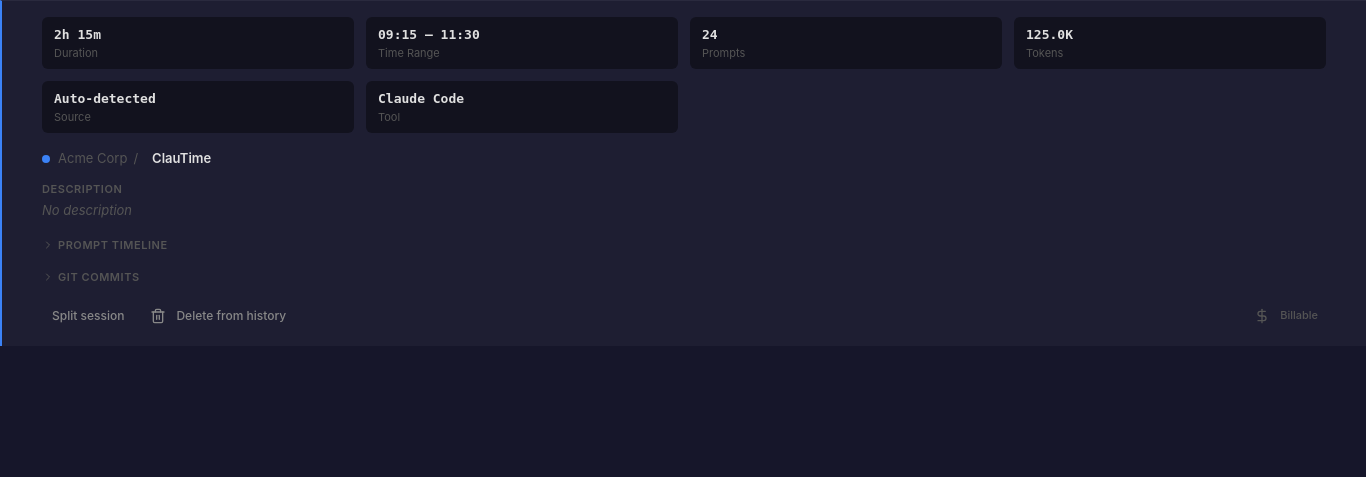
SessionDetailPanel › cancels a split with Escape without closing the session
The width and height of the screenshot is (1366, 477).
Click the button "Split session" at [88, 316], box x1=42 y1=302 x2=134 y2=330
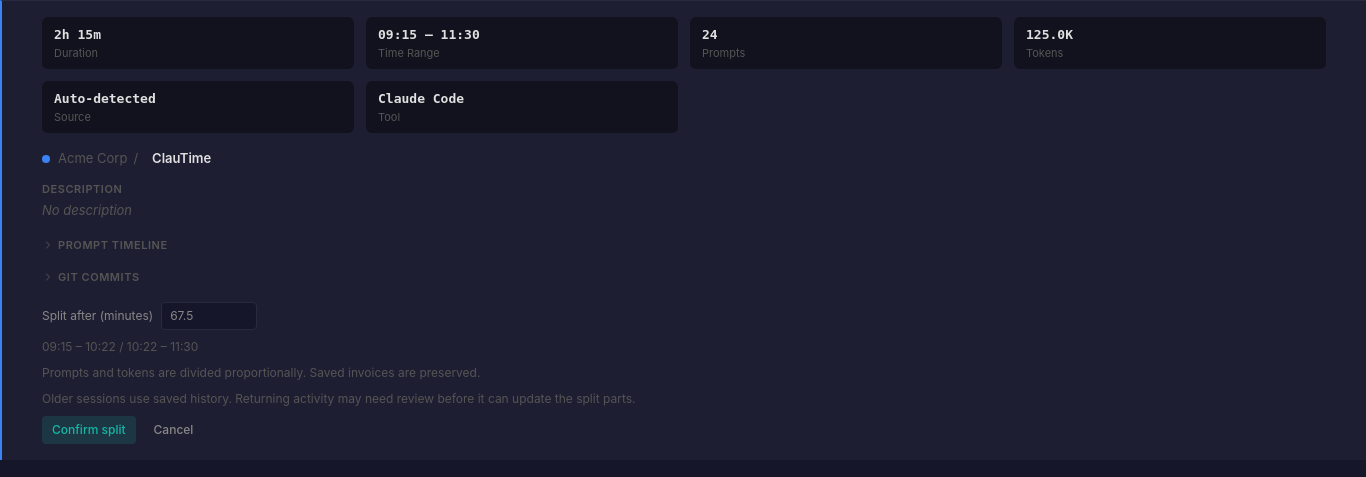
Press Escape in the element named "Details for session 09:15 – 11:30"
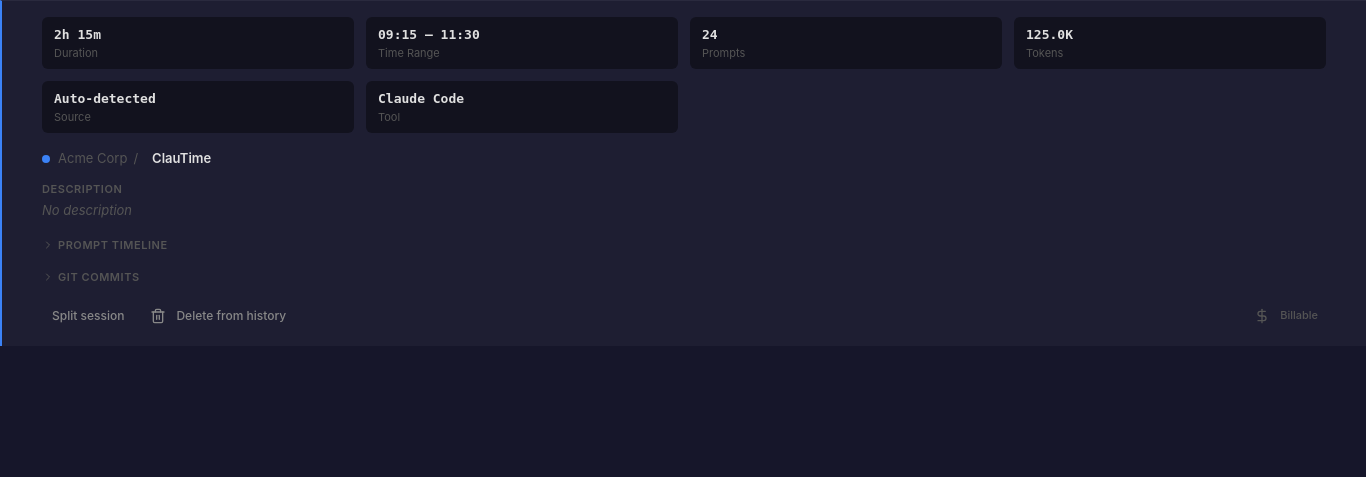
Check: the button "Split session" is shown, box x1=42 y1=302 x2=134 y2=330
